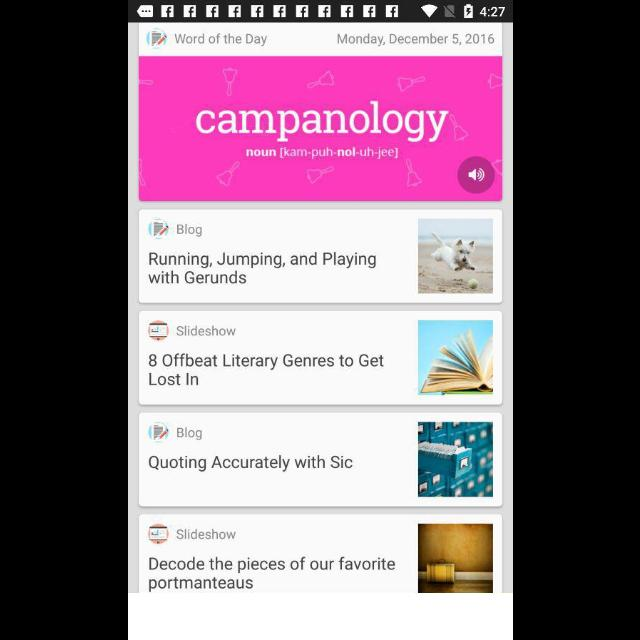image: (138, 57, 502, 201), (418, 422, 492, 496), (418, 321, 492, 395), (418, 219, 492, 293), (418, 524, 492, 592), (456, 156, 494, 194), (148, 524, 168, 544), (148, 423, 168, 443), (148, 219, 168, 239), (146, 29, 166, 49), (148, 322, 168, 341)
panel: (136, 208, 504, 304), (137, 311, 503, 407), (138, 412, 502, 506)
text: (149, 557, 395, 593), (148, 352, 382, 386), (148, 252, 376, 284), (148, 455, 352, 473), (337, 34, 493, 46), (174, 33, 266, 47), (176, 528, 234, 540), (176, 325, 234, 337), (176, 427, 202, 441), (176, 225, 202, 238)
uppertaskbar: (128, 1, 512, 23)
